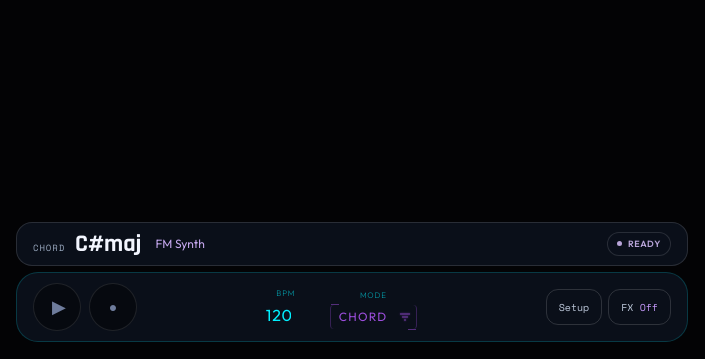
Test case: keeps setup changes when collapsed and returns keyboard focus on Escape
The width and height of the screenshot is (705, 359).
Check: the element named "Selected chord: C#maj" is shown, box 33,231 -> 142,257
Check: the text "FM Synth" is shown, box 156,235 -> 205,253
Click the button "Setup" at (574, 307), box 546,289 -> 602,325
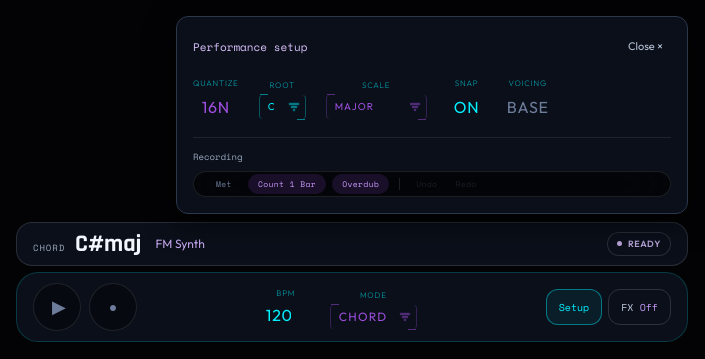
Select "F" in the dropdown named "Key" at (282, 107), box 260,95 -> 305,119
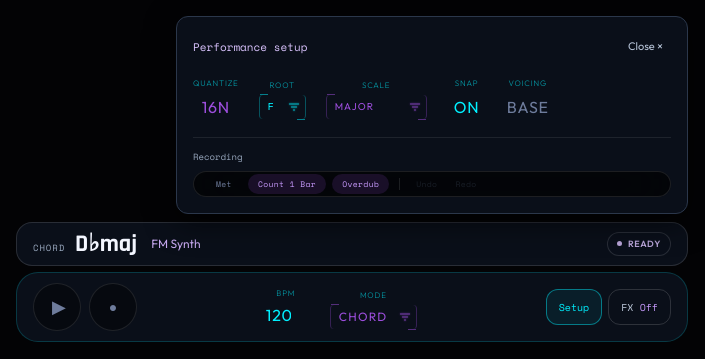
Click the button with aria-label "Snap to scale" at (467, 107), box 447,93 -> 487,121
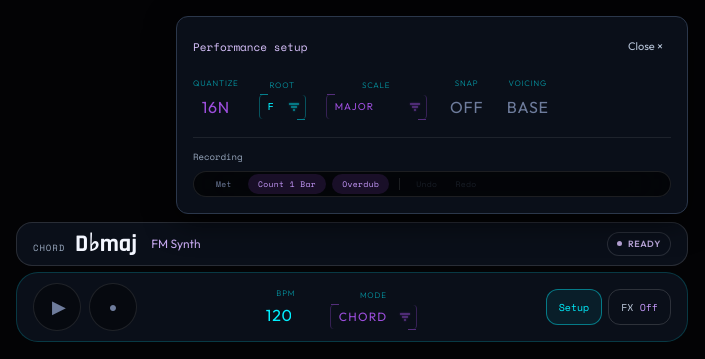
Press Escape in the dropdown named "Key", box 260,95 -> 305,119
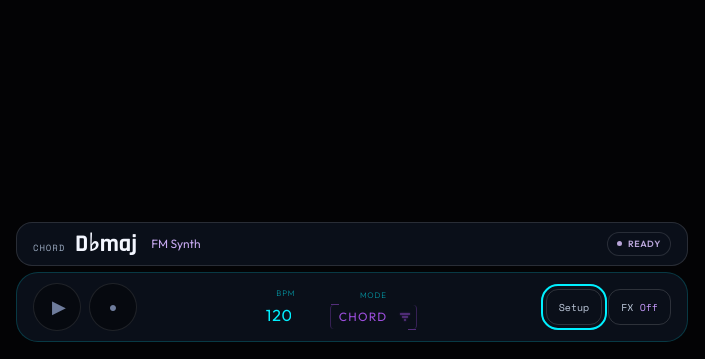
Check: the text "Performance setup" is gone
Click the button "Setup" at (574, 307), box 546,289 -> 602,325
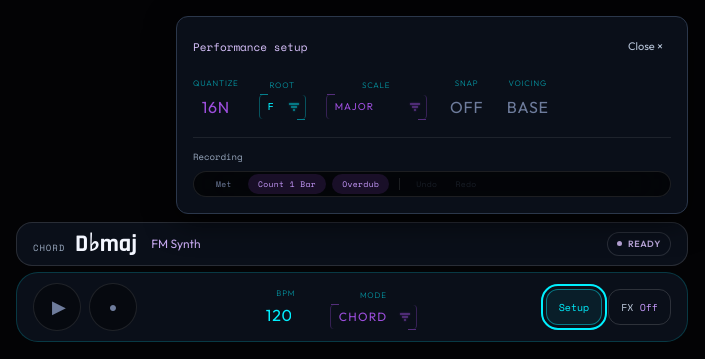
Check: the element named "Selected chord: D♭maj" is shown, box 33,231 -> 137,257
Check: the dropdown named "Key" shows "F", box 260,95 -> 305,119
